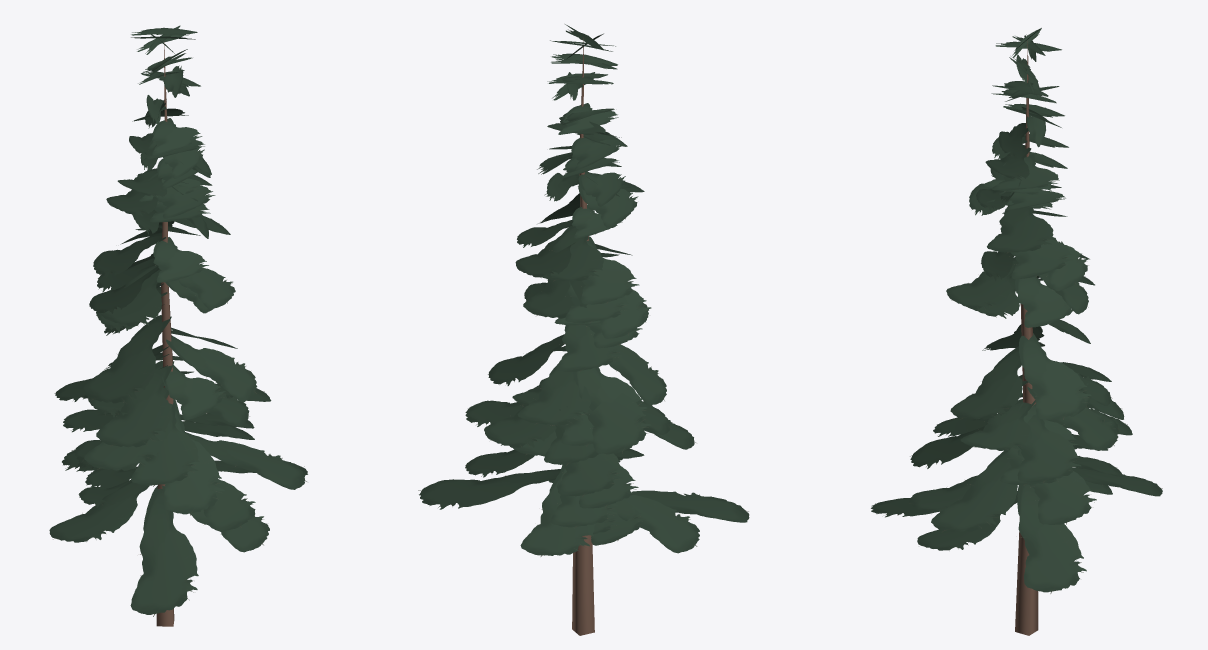
3 renders of one model, left to right at view 1: azimuth 30°, elevation 25°; view 2: azimuth 150°, elevation 25°; view 3: azimuth 270°, elevation 25°, orthographic.
Parts seen in each view (by area): view 1: LOD Test.002; view 2: LOD Test.002; view 3: LOD Test.002.
Part boxes in pixels (box(x1,y1,x2,y2)): LOD Test.002: box(49, 25, 307, 626); LOD Test.002: box(418, 24, 749, 635); LOD Test.002: box(871, 28, 1162, 635).
Bounding box in the file's own units: 3238 × 5978 × 3391.
